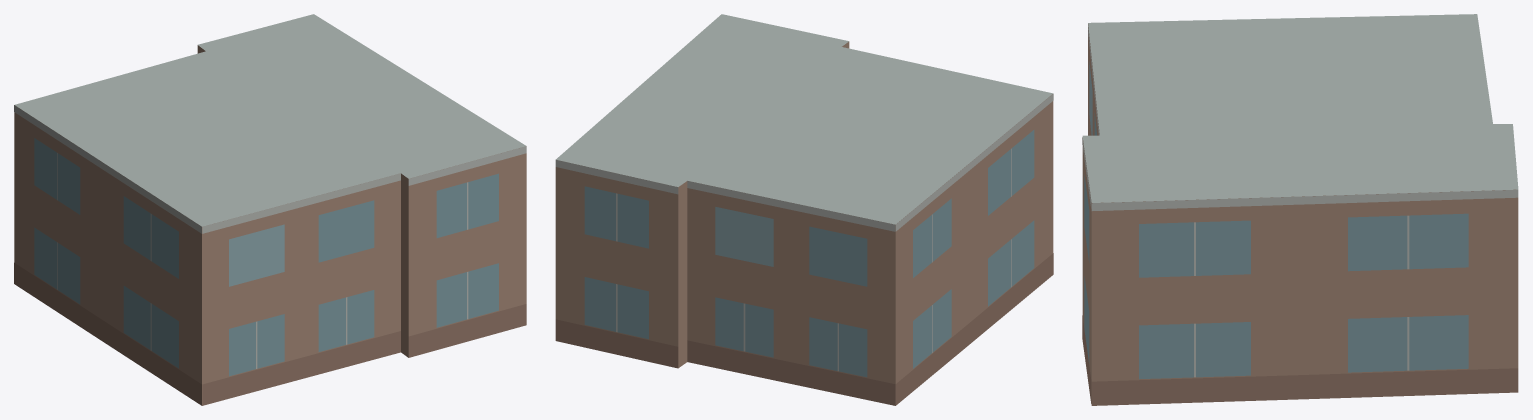
Rendered from survey-upis-32585446.glb.
The picture shows the model from 3 angles, left to right: view 1: azimuth 30°, elevation 25°; view 2: azimuth 150°, elevation 25°; view 3: azimuth 270°, elevation 25°; orthographic projection. The views are drawn at different scales.
Parts seen in each view (by area): view 1: survey-upis-32585446.tmp; view 2: survey-upis-32585446.tmp; view 3: survey-upis-32585446.tmp.
Part boxes in pixels (x1,y1,x2,y2): survey-upis-32585446.tmp: (14, 14, 526, 405); survey-upis-32585446.tmp: (555, 14, 1053, 405); survey-upis-32585446.tmp: (1082, 14, 1518, 405).
Size of the model in its own units: 12.21 by 6.1 by 11.9.
